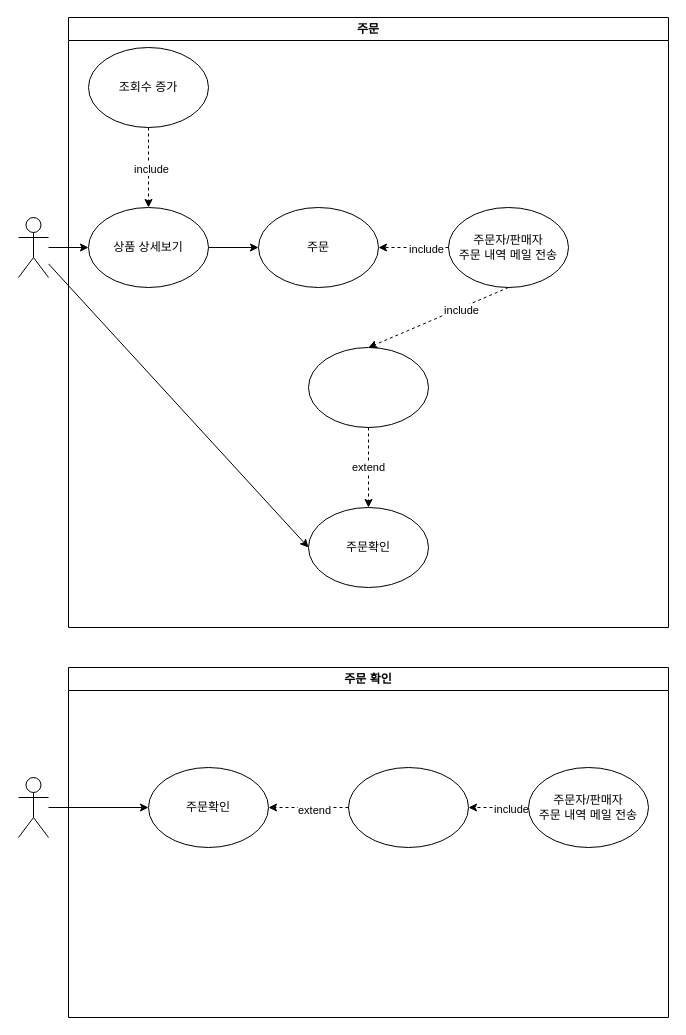
Image size: 686x1035. Some labels were removed from this diagram. The shapes that lost their labels are listed below. From the top down, each one's box as (x1, y1, x2, y2) in pixels, then its label:
(18, 216, 48, 278): 주문자
(308, 346, 428, 428): 주문 정보 수정 (수정,취소)
(18, 776, 48, 838): 관리자
(348, 766, 468, 848): 주문 정보 수정 (취소,완료)
